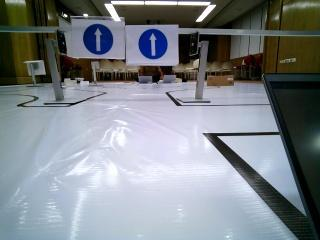straight: (68, 20, 123, 57), (127, 26, 179, 63)
